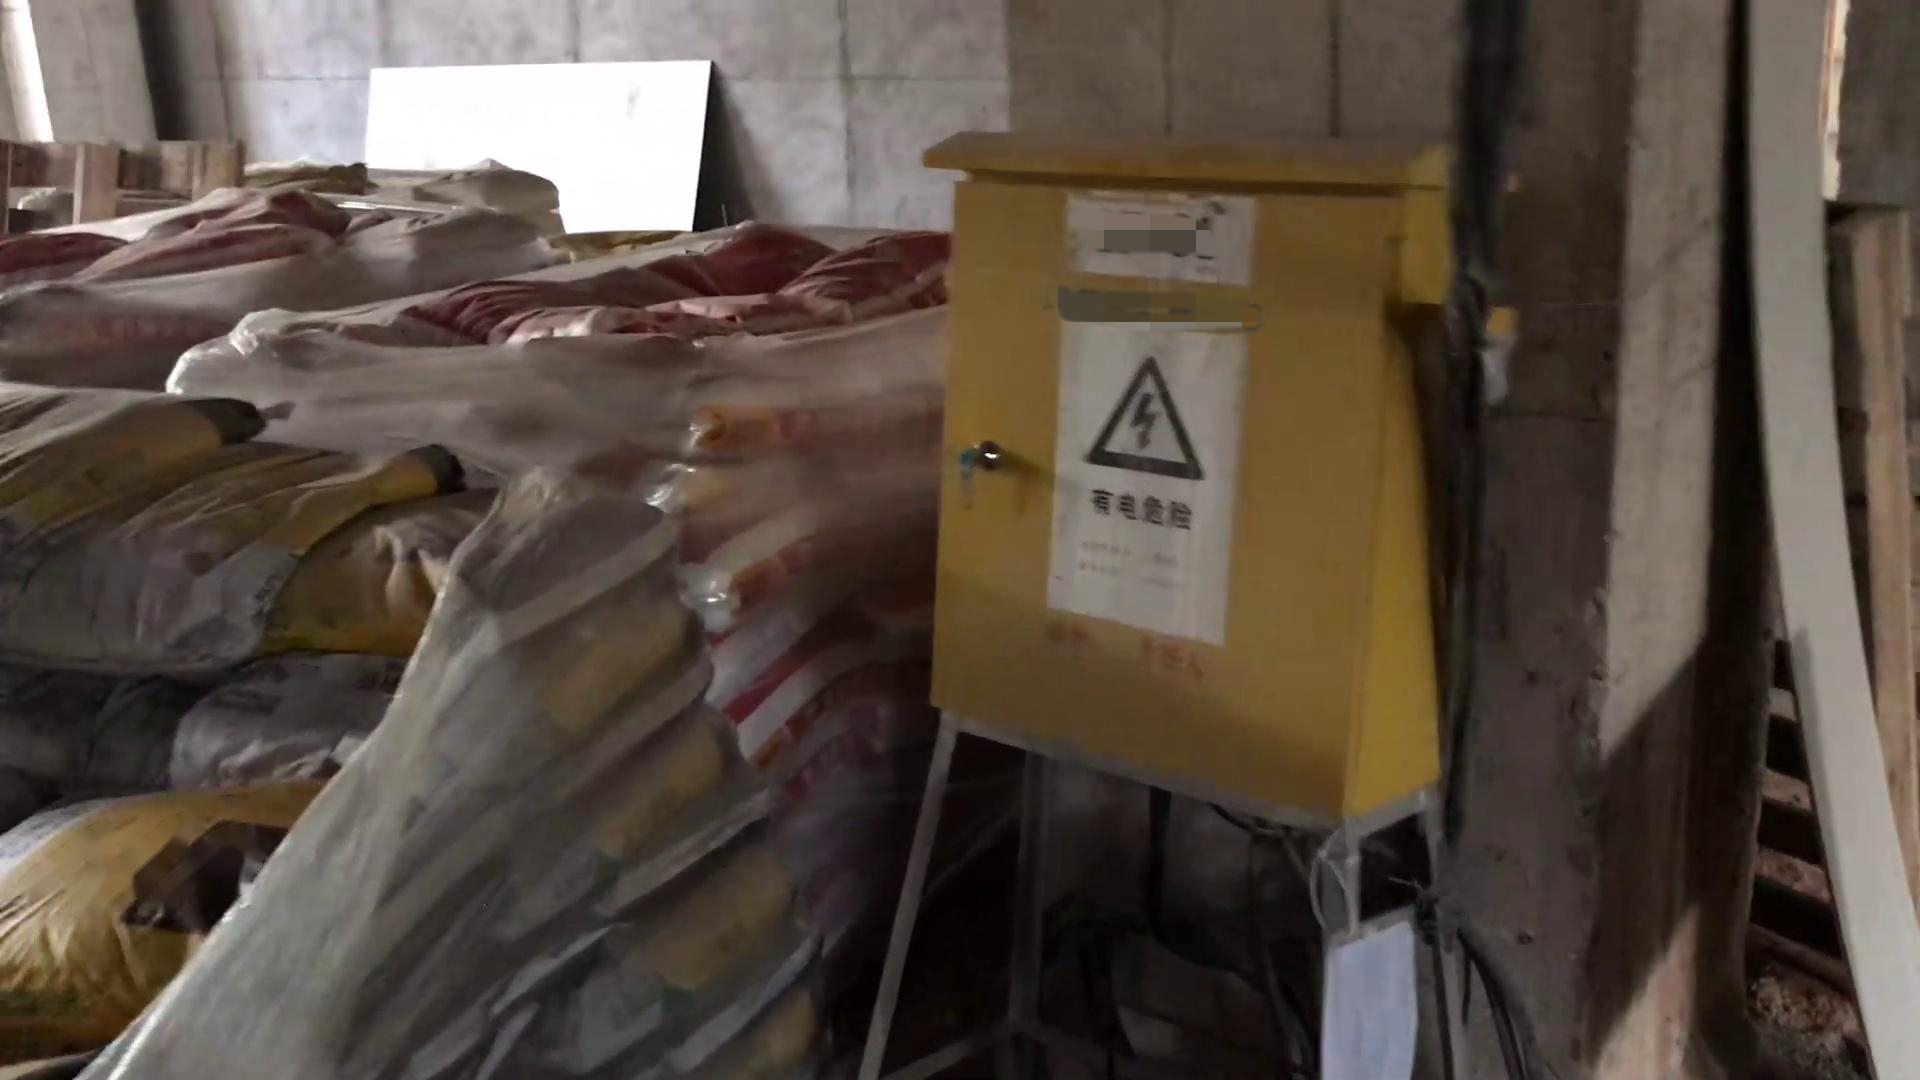ebox: (895, 91, 1536, 899)
